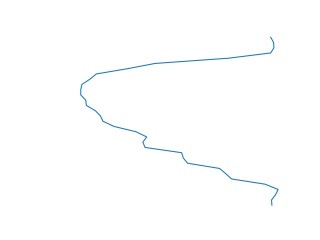mouthBar: (76, 39, 283, 207)
